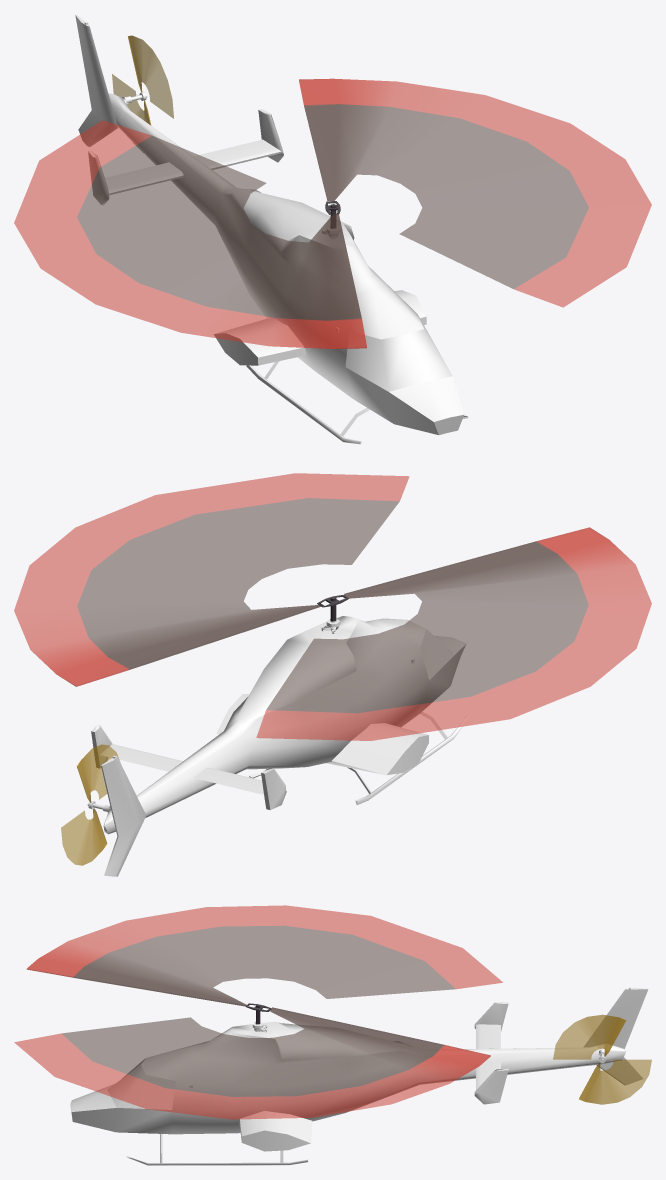
Rendered from vehicles-aircraft-helicopter_v2.glb.
The picture shows the model from 3 angles, top to bottom: view 1: azimuth 30°, elevation 25°; view 2: azimuth 150°, elevation 25°; view 3: azimuth 270°, elevation 25°; orthographic projection. The views are drawn at different scales.
Parts seen in each view (by area): view 1: Helicopter_v2; view 2: Helicopter_v2; view 3: Helicopter_v2.
Part boxes in pixels (<box>): Helicopter_v2: <box>14,14,651,444</box>; Helicopter_v2: <box>14,473,651,876</box>; Helicopter_v2: <box>14,905,651,1165</box>.
Size of the model in its own units: 10.32 by 3.43 by 13.
